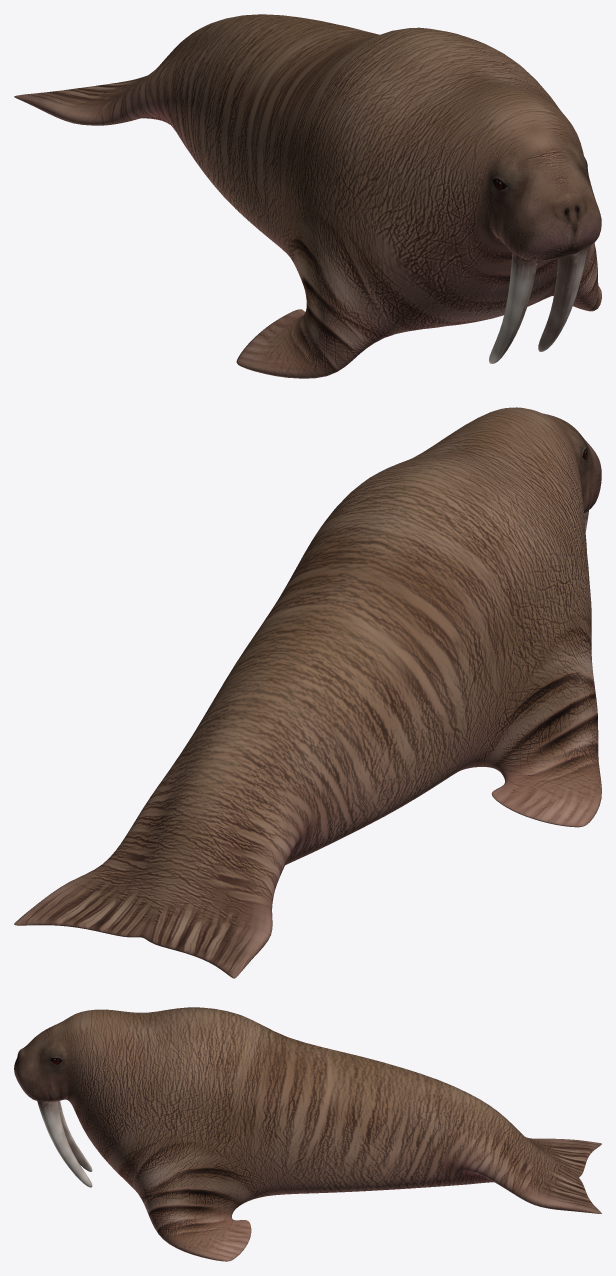
Rendered from Morj.fbx.
The picture shows the model from 3 angles, top to bottom: view 1: azimuth 30°, elevation 25°; view 2: azimuth 150°, elevation 25°; view 3: azimuth 270°, elevation 25°; orthographic projection. The views are drawn at different scales.
Parts seen in each view (by area): view 1: 10053_Walrus_v1_L3; view 2: 10053_Walrus_v1_L3; view 3: 10053_Walrus_v1_L3.
Part boxes in pixels (<box>): 10053_Walrus_v1_L3: <box>14,14,601,378</box>; 10053_Walrus_v1_L3: <box>14,407,601,978</box>; 10053_Walrus_v1_L3: <box>14,1007,601,1261</box>.
Bounding box in the file's own units: 12861 × 10411 × 28722.
1 material, 1 textured.
